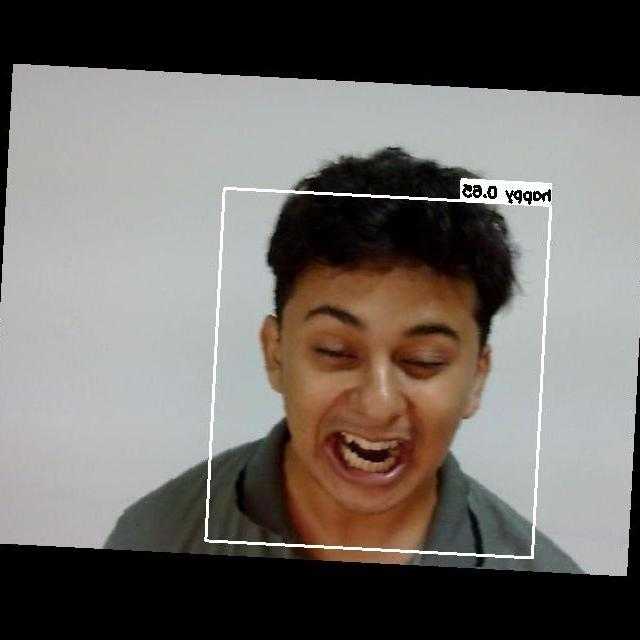Surprised: (279, 285, 488, 517)
